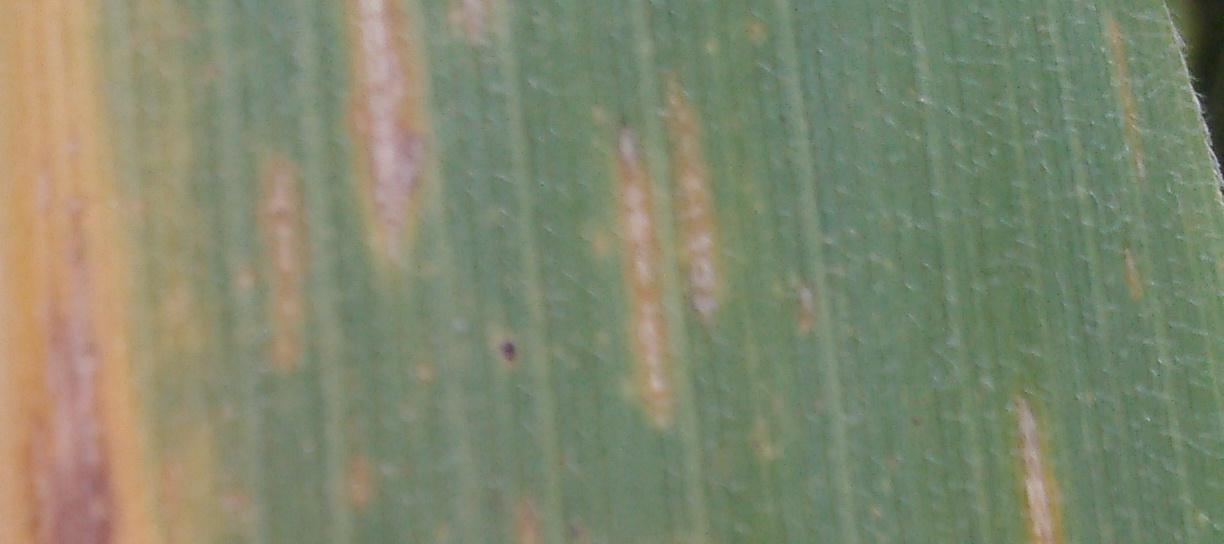tarspot: (485, 331, 528, 375)
